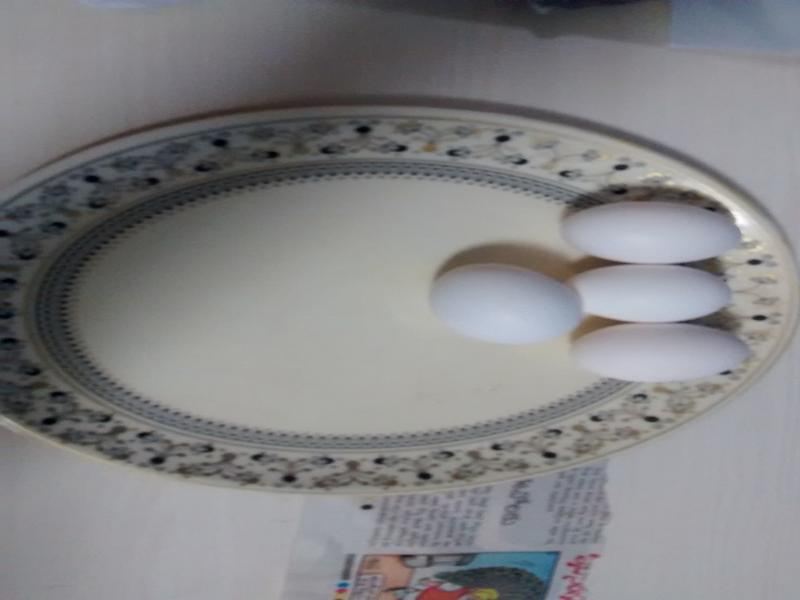egg: (432, 253, 572, 347)
